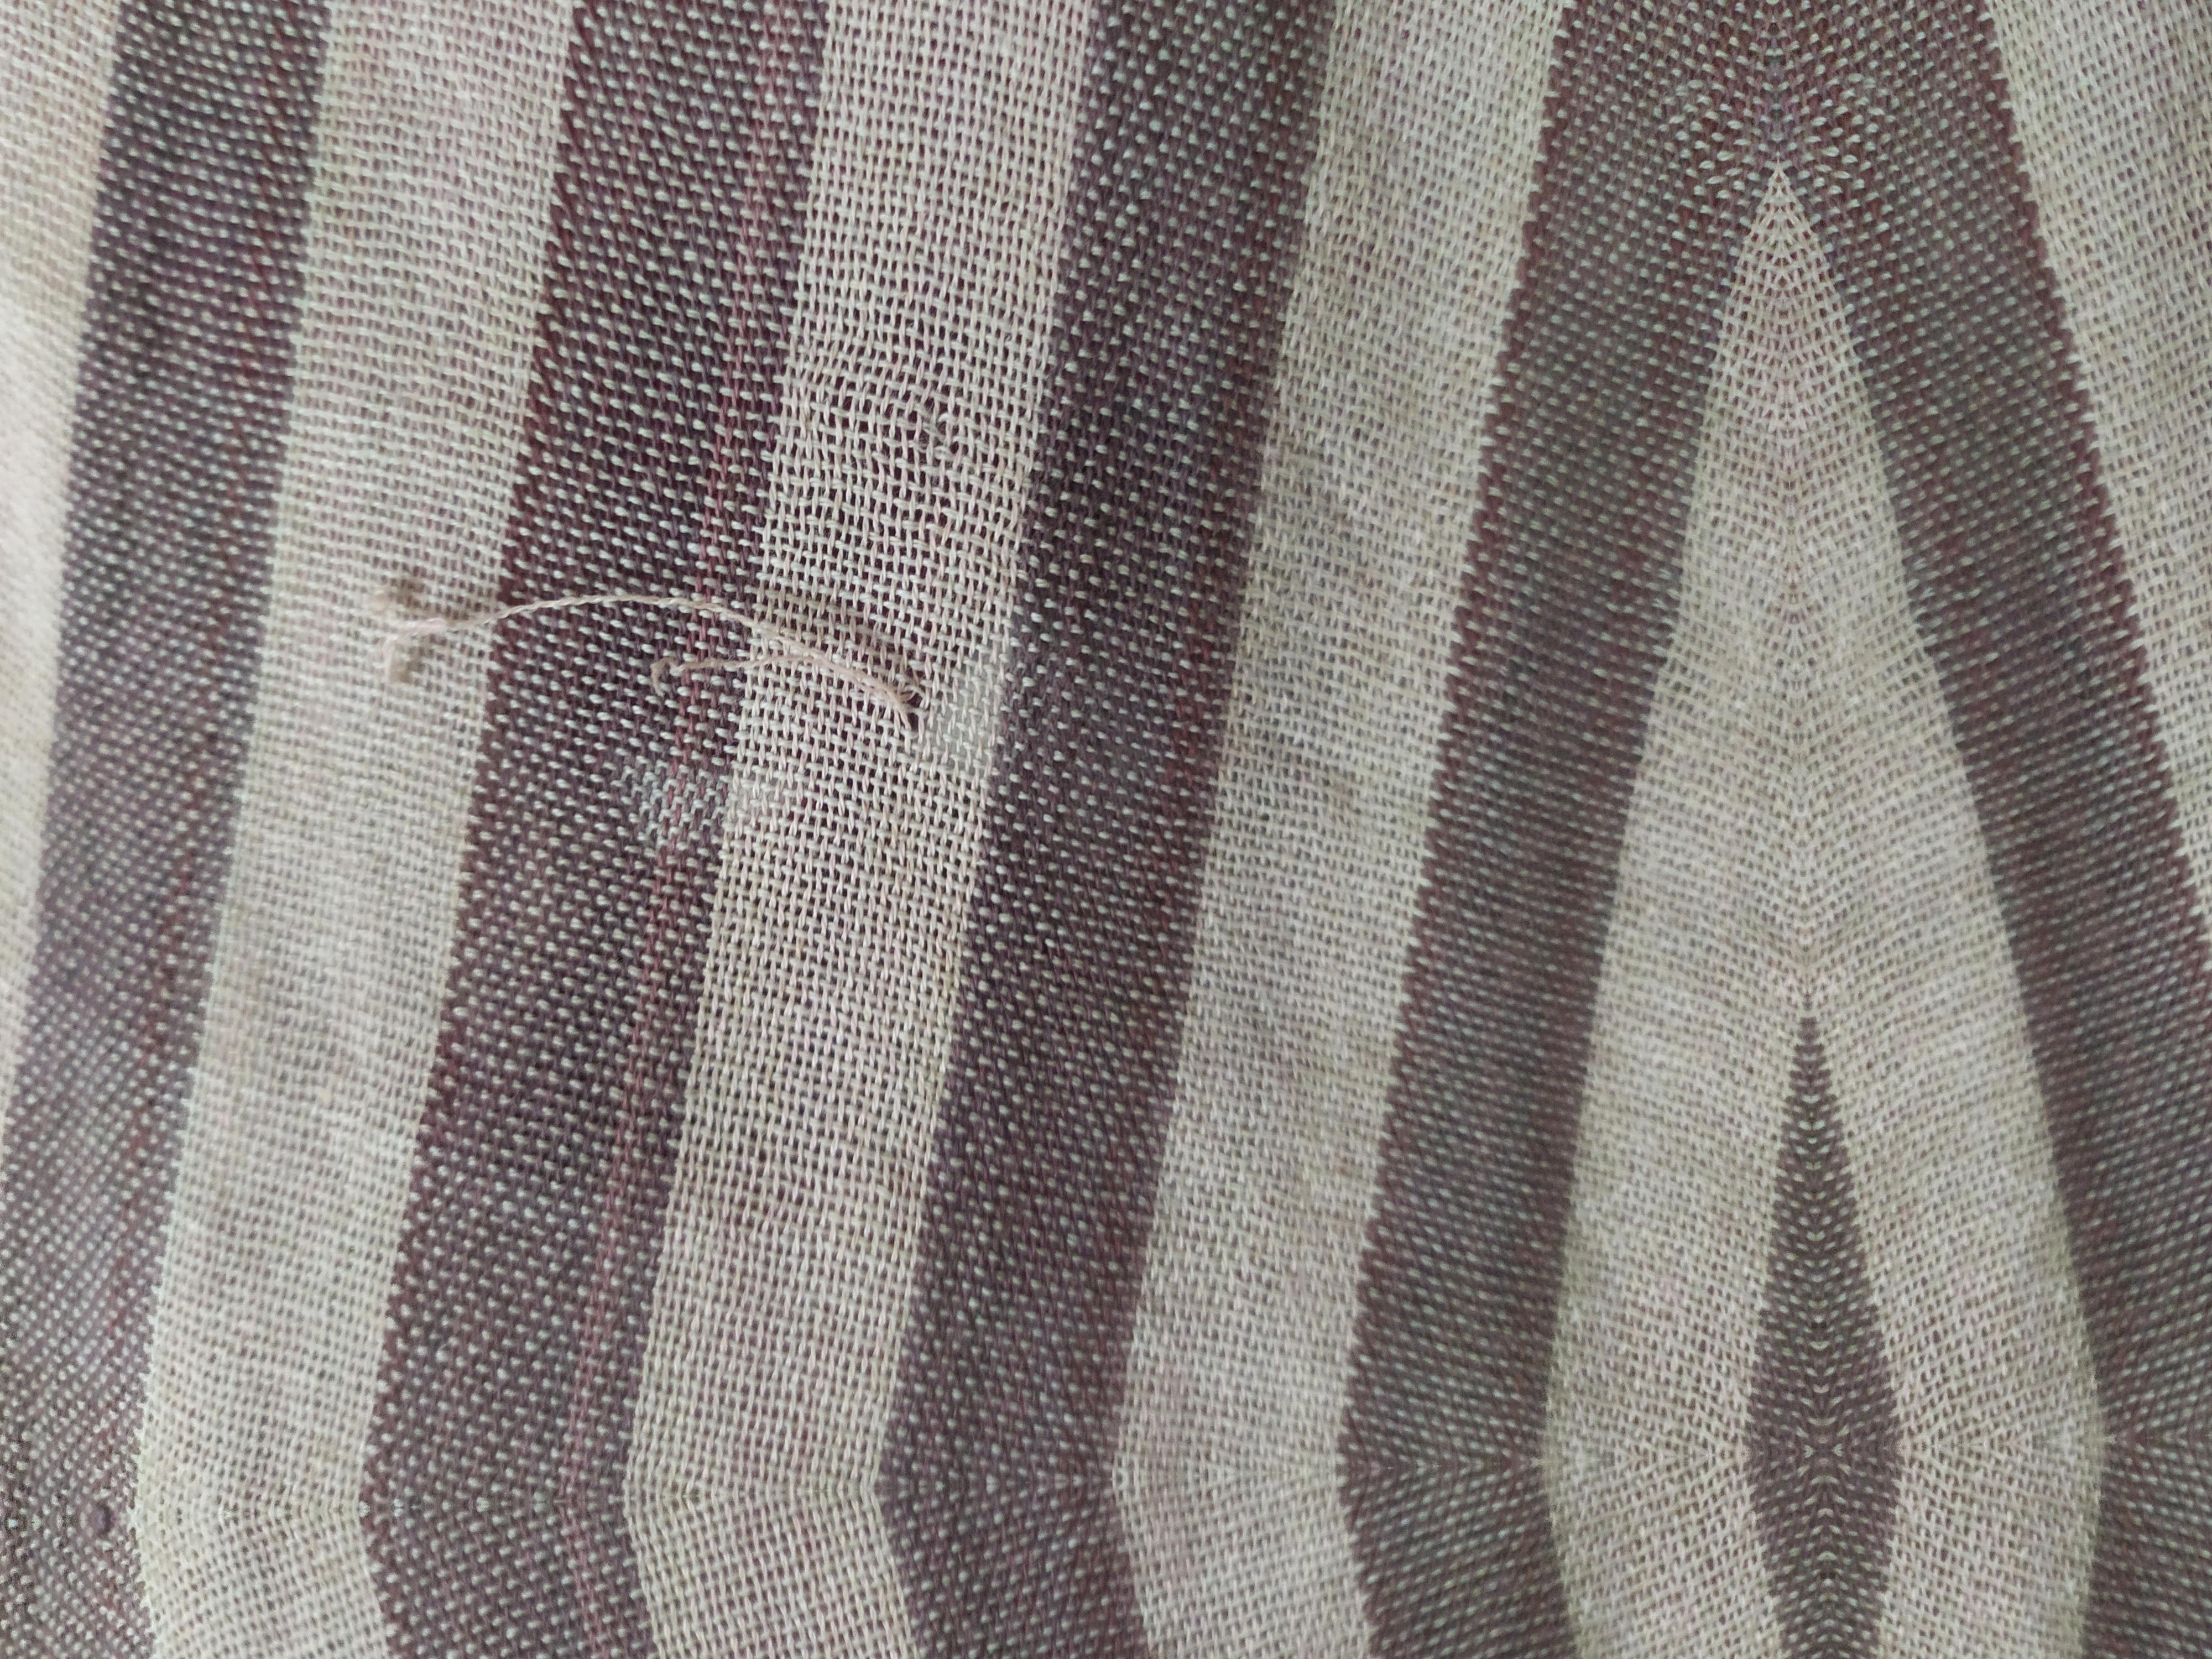snag: (374, 547, 986, 775)
